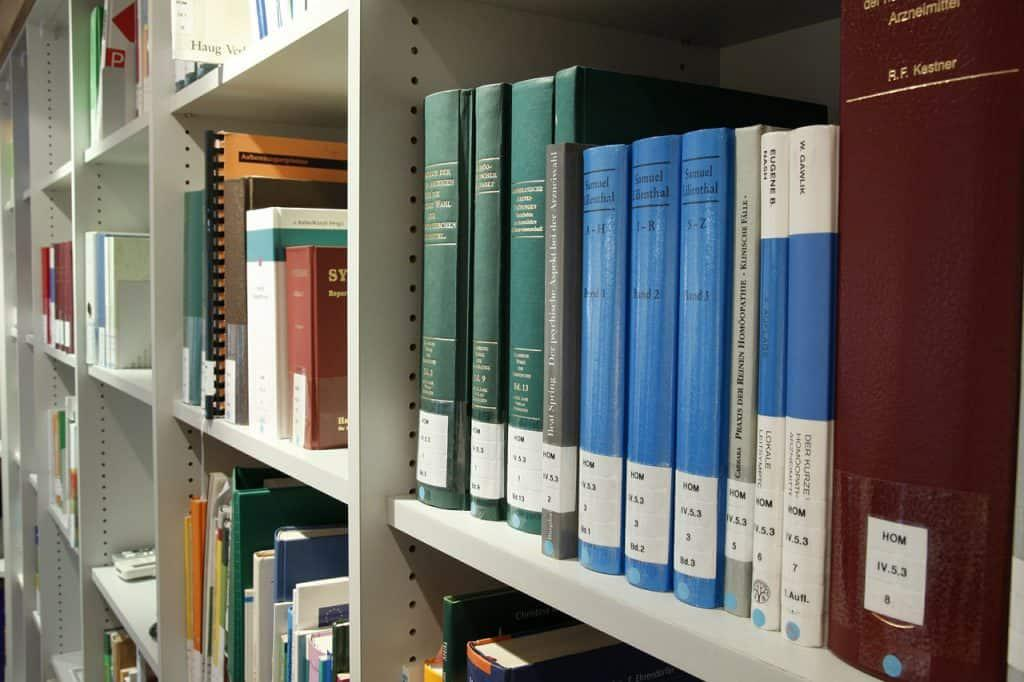book: (865, 7, 990, 676), (583, 166, 618, 566), (421, 103, 455, 500), (792, 149, 818, 643), (684, 149, 709, 599), (514, 103, 539, 526), (640, 164, 664, 578), (481, 104, 504, 517), (252, 225, 280, 436), (764, 148, 776, 623), (735, 149, 746, 618), (289, 261, 317, 441), (113, 239, 147, 367)
